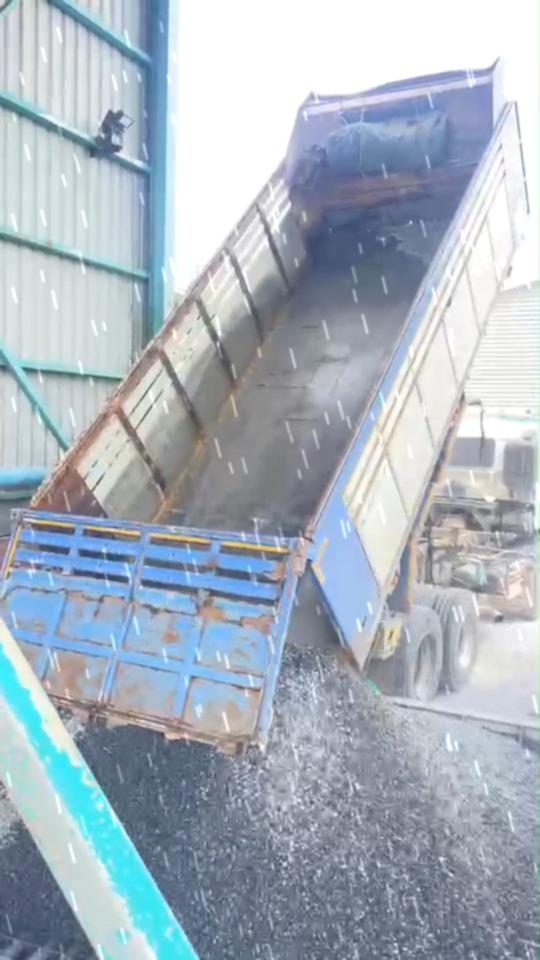gravel: (81, 649, 537, 959), (0, 826, 91, 955)
